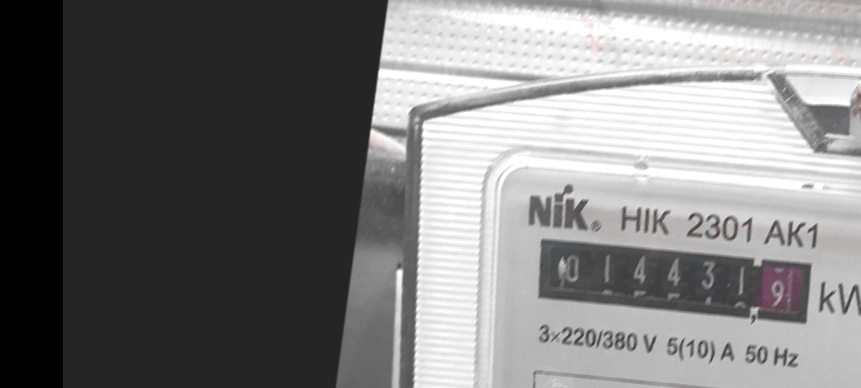0: (559, 249, 583, 284)
1: (595, 249, 617, 284), (732, 262, 749, 296)
3: (695, 257, 718, 292)
4: (626, 250, 652, 286), (661, 252, 684, 288)
9: (765, 275, 786, 308)
screen: (523, 218, 827, 343)
